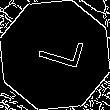L_W: (26, 33, 84, 77)
